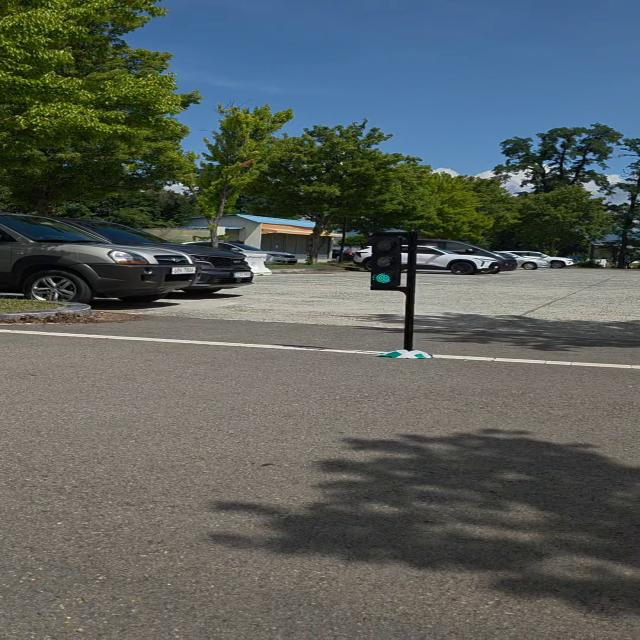green: (369, 235, 406, 289)
